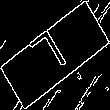L_SE: (32, 25, 78, 85)
